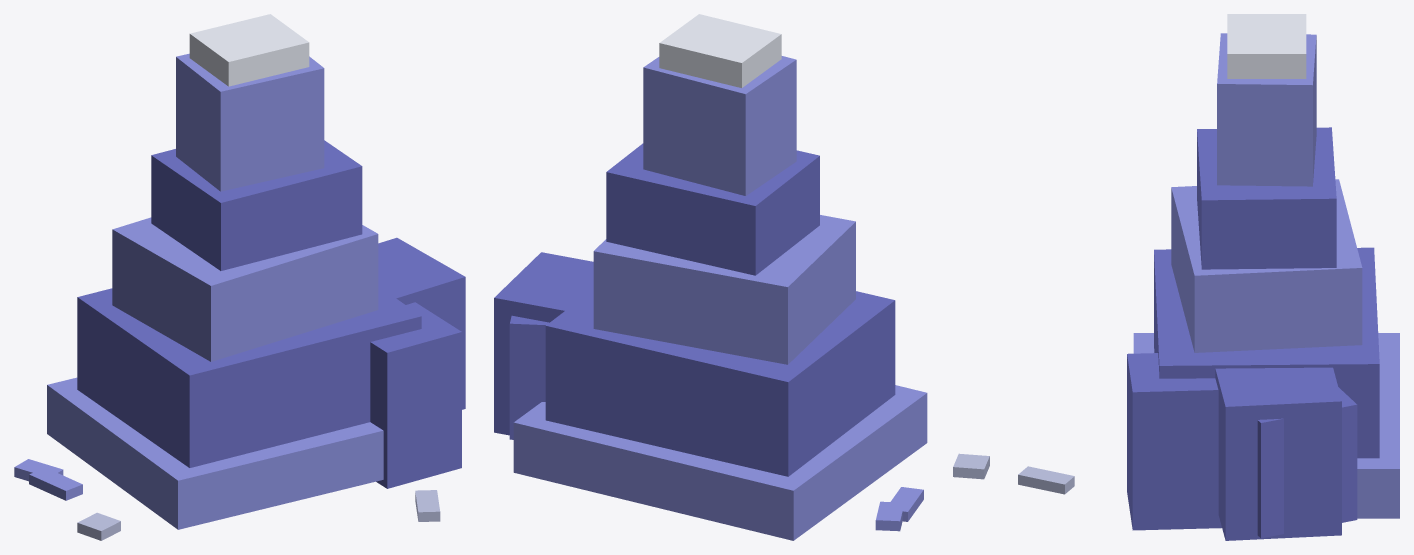
File: SnowRock.fbx
The picture shows the model from 3 angles, left to right: view 1: azimuth 30°, elevation 25°; view 2: azimuth 150°, elevation 25°; view 3: azimuth 270°, elevation 25°; orthographic projection. The views are drawn at different scales.
Visible parts, largest first — view 1: RockBlueDark.003, RockBlue.004, Snow.004, SnowShade.004; view 2: RockBlue.004, RockBlueDark.003, Snow.004, SnowShade.004; view 3: RockBlueDark.003, RockBlue.004, Snow.004, SnowShade.004.
Boxes of the visible parts, x1,y1,x2,y2 form: RockBlueDark.003: (77, 140, 465, 488); RockBlue.004: (14, 53, 383, 529); Snow.004: (189, 14, 309, 86); SnowShade.004: (77, 490, 440, 540); RockBlue.004: (513, 56, 927, 540); RockBlueDark.003: (494, 143, 895, 476); Snow.004: (659, 14, 781, 87); SnowShade.004: (953, 453, 989, 479); RockBlueDark.003: (1127, 127, 1379, 540); RockBlue.004: (1133, 33, 1399, 518); Snow.004: (1227, 14, 1306, 78); SnowShade.004: (1018, 466, 1074, 494).
Size of the model in its own units: 10.59 by 10.19 by 8.32.
